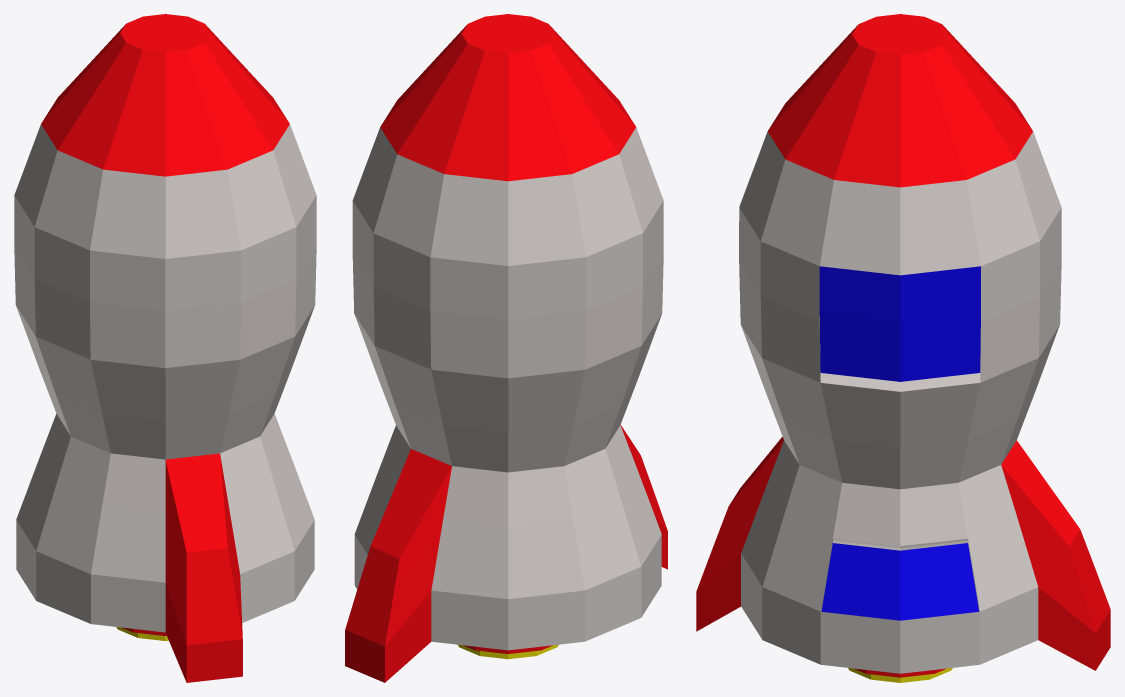
The model's file is raketa.glb.
3 views of the same model, side by side, from view 1: azimuth 30°, elevation 25°; view 2: azimuth 150°, elevation 25°; view 3: azimuth 270°, elevation 25° (orthographic). The views are drawn at different scales.
Visible parts, largest first — view 1: Cylinder.001; view 2: Cylinder.001; view 3: Cylinder.001.
Boxes of the visible parts, x1=… form: Cylinder.001: x1=14, y1=14, x2=316, y2=682; Cylinder.001: x1=345, y1=14, x2=667, y2=682; Cylinder.001: x1=696, y1=14, x2=1110, y2=682.
Size of the model in its own units: 1.07 by 2.28 by 1.37.
